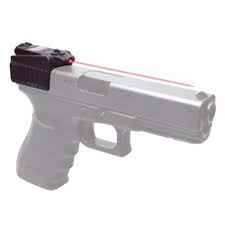gun: (8, 41, 218, 194)
